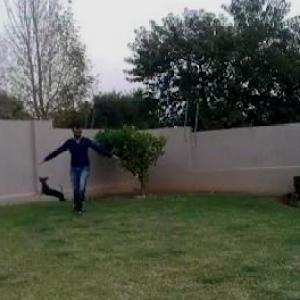land: (43, 117, 131, 221)
